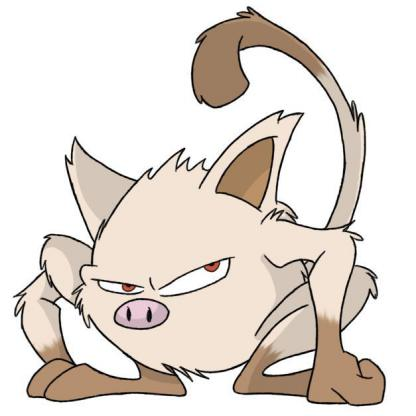Mankey: (13, 19, 416, 412)
